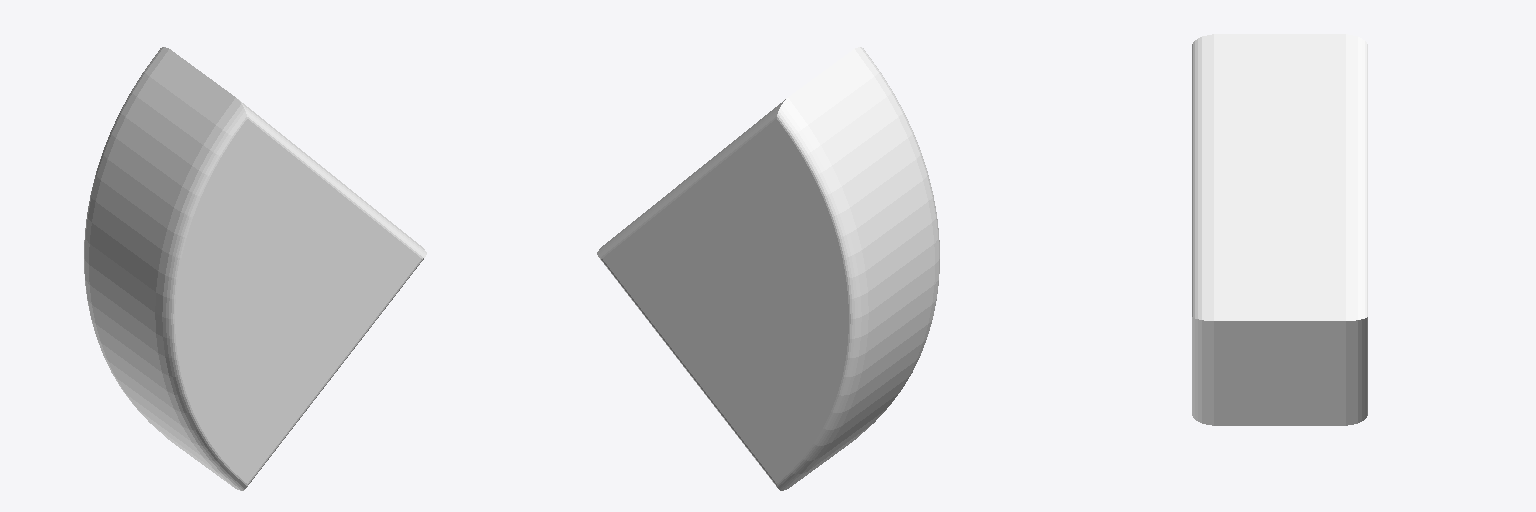
The model's file is map_black.obj.
3 renders of one model, left to right at view 1: azimuth 30°, elevation 25°; view 2: azimuth 150°, elevation 25°; view 3: azimuth 270°, elevation 25°, orthographic.
Parts seen in each view (by area): view 1: svgMesh7; view 2: svgMesh7; view 3: svgMesh7.
Boxes of the visible parts, box(x1,y1,x2,y2) form: svgMesh7: box(84, 47, 426, 490); svgMesh7: box(597, 47, 939, 490); svgMesh7: box(1192, 34, 1367, 425).
Size of the model in its own units: 3.5 by 4.88 by 2.